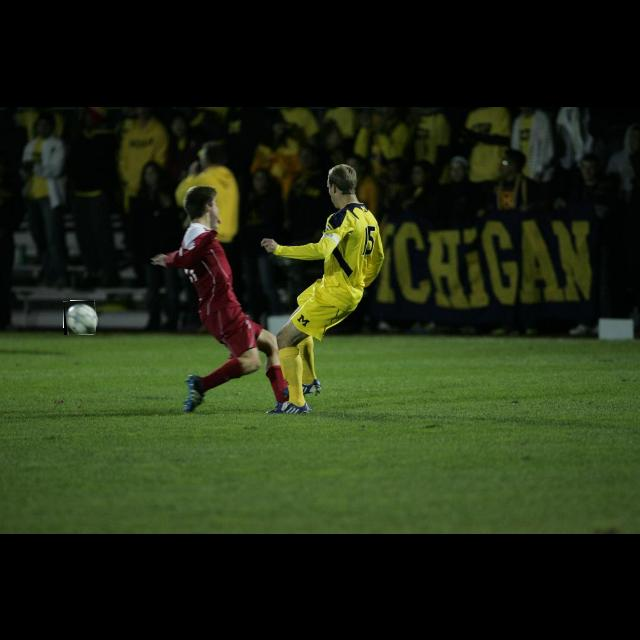Football: (64, 301, 96, 335)
